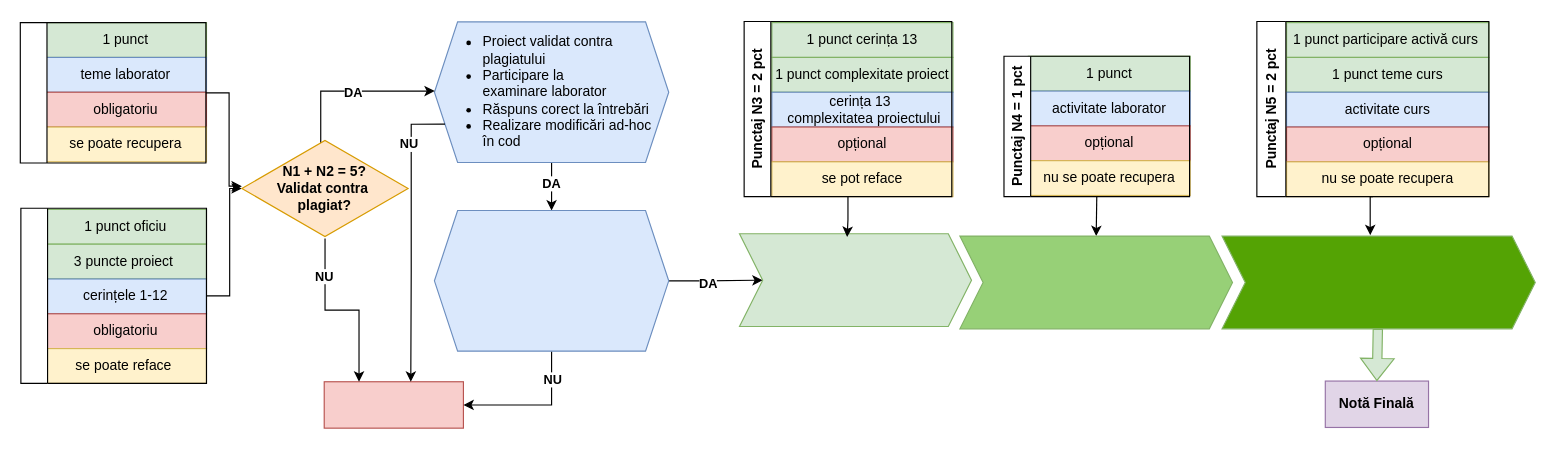
This 1556x449 diagram has some shape labels left out. Here are the shapes that lost their labels. From the top down, the centre of each, then its label:
At point (112, 92): "Punctaj N1 = 1 pct".
At point (113, 295): "Punctaj N2 = 4 pct".
At point (551, 280): "Participare la examinare sesiune Răspuns corect la întrebări".
At point (854, 280): "N1 + N2 + N3 = max 7 puncte".
At point (1095, 282): "N1 + N2 + N3 + N4 = max 8 puncte".
At point (1378, 282): "N1 + N2 + N3 + N4 + N5 = max 10 puncte".
At point (393, 404): "Restanță".
